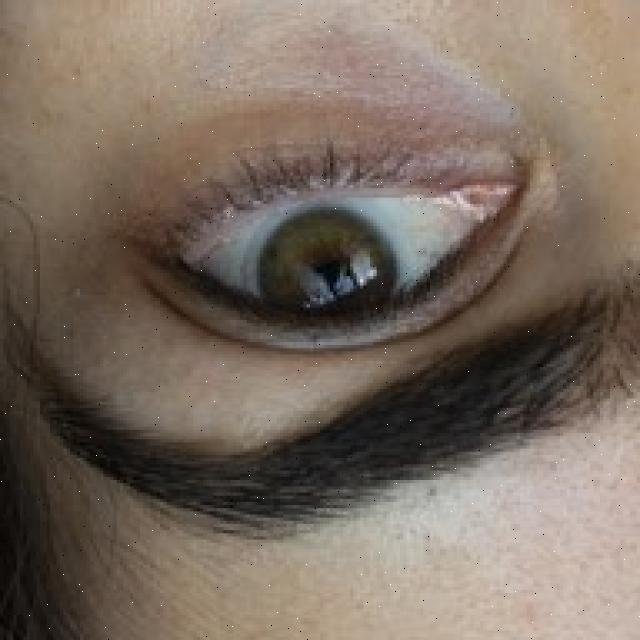Normal: (253, 206, 401, 341)
